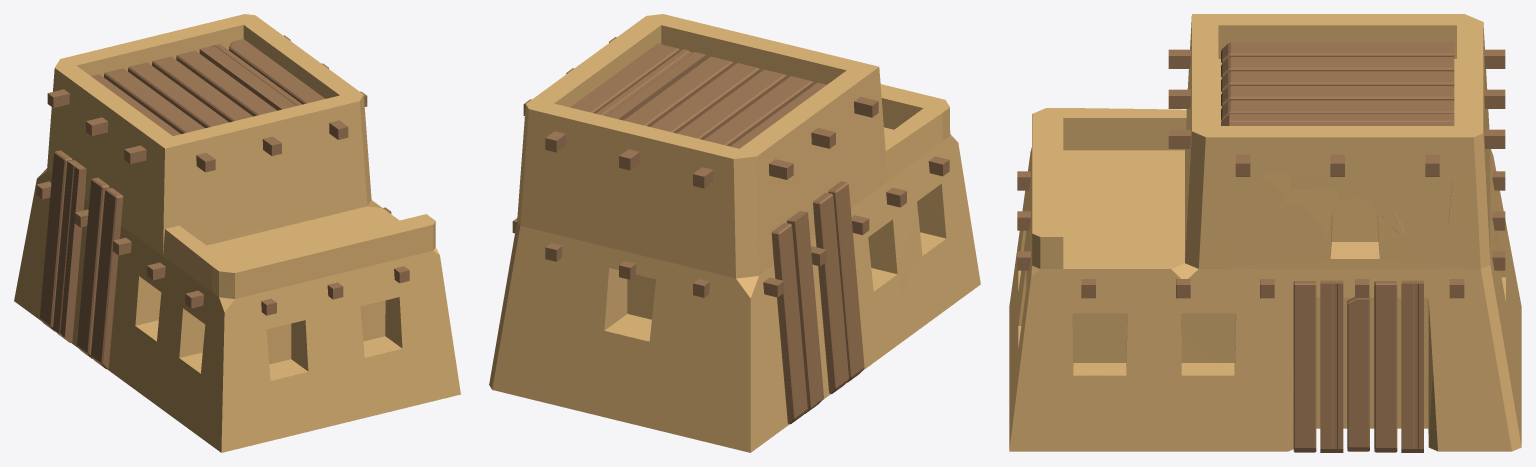
File: wip_house1.fbx
3 renders of one model, left to right at view 1: azimuth 30°, elevation 25°; view 2: azimuth 150°, elevation 25°; view 3: azimuth 270°, elevation 25°, orthographic. The views are drawn at different scales.
Visible parts, largest first — view 1: Cube, Cube_cell.004, Cube.032, Cube.028, Cube.027, Cube.031, Cube.006, Cube.003, Cube.004, Cube.002, Cube.005, Cube.007 (+10 smaller); view 2: Cube, Cube.031, Cube.027, Cube_cell.048, Cube.032, Cube.028, Cube_cell.022, Cube.006, Cube.004, Cube.003, Cube.002, Cube.005 (+10 smaller); view 3: Cube, Cube.041, Cube.040, Cube.043, Cube.044, Cube.042, Cube.002, Cube.004, Cube.001, Cube.003, Cube.005, Cube_cell.031 (+12 smaller).
Boxes of the visible parts, <box> form: Cube: <box>14,14,460,452</box>; Cube_cell.004: <box>234,114,306,230</box>; Cube.032: <box>53,160,86,342</box>; Cube.028: <box>91,188,123,369</box>; Cube.027: <box>77,177,109,358</box>; Cube.031: <box>40,150,72,331</box>; Cube.006: <box>199,44,302,110</box>; Cube.003: <box>128,62,228,128</box>; Cube.004: <box>152,56,252,122</box>; Cube.002: <box>104,68,204,133</box>; Cube.005: <box>176,50,276,116</box>; Cube.007: <box>229,39,324,104</box>; Cube: <box>489,14,980,452</box>; Cube.031: <box>771,223,807,424</box>; Cube.027: <box>813,192,848,394</box>; Cube_cell.048: <box>675,230,732,379</box>; Cube.032: <box>787,211,823,413</box>; Cube.028: <box>828,181,864,382</box>; Cube_cell.022: <box>573,198,628,337</box>; Cube.006: <box>596,49,708,120</box>; Cube.004: <box>650,63,761,133</box>; Cube.003: <box>677,69,788,139</box>; Cube.002: <box>704,76,814,146</box>; Cube.005: <box>624,56,734,126</box>; Cube: <box>1009,14,1521,451</box>; Cube.041: <box>1320,280,1343,452</box>; Cube.040: <box>1293,281,1316,452</box>; Cube.043: <box>1374,281,1397,452</box>; Cube.044: <box>1401,280,1423,452</box>; Cube.042: <box>1347,296,1369,451</box>; Cube.002: <box>1221,57,1454,77</box>; Cube.004: <box>1221,86,1454,106</box>; Cube.001: <box>1221,42,1454,62</box>; Cube.003: <box>1221,71,1454,91</box>; Cube.005: <box>1221,100,1454,120</box>; Cube_cell.031: <box>1073,313,1127,369</box>.
Size of the model in its own units: 248 by 230 by 352.
